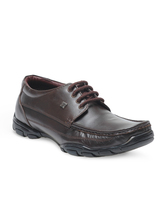shoes: (14, 73, 158, 162)
